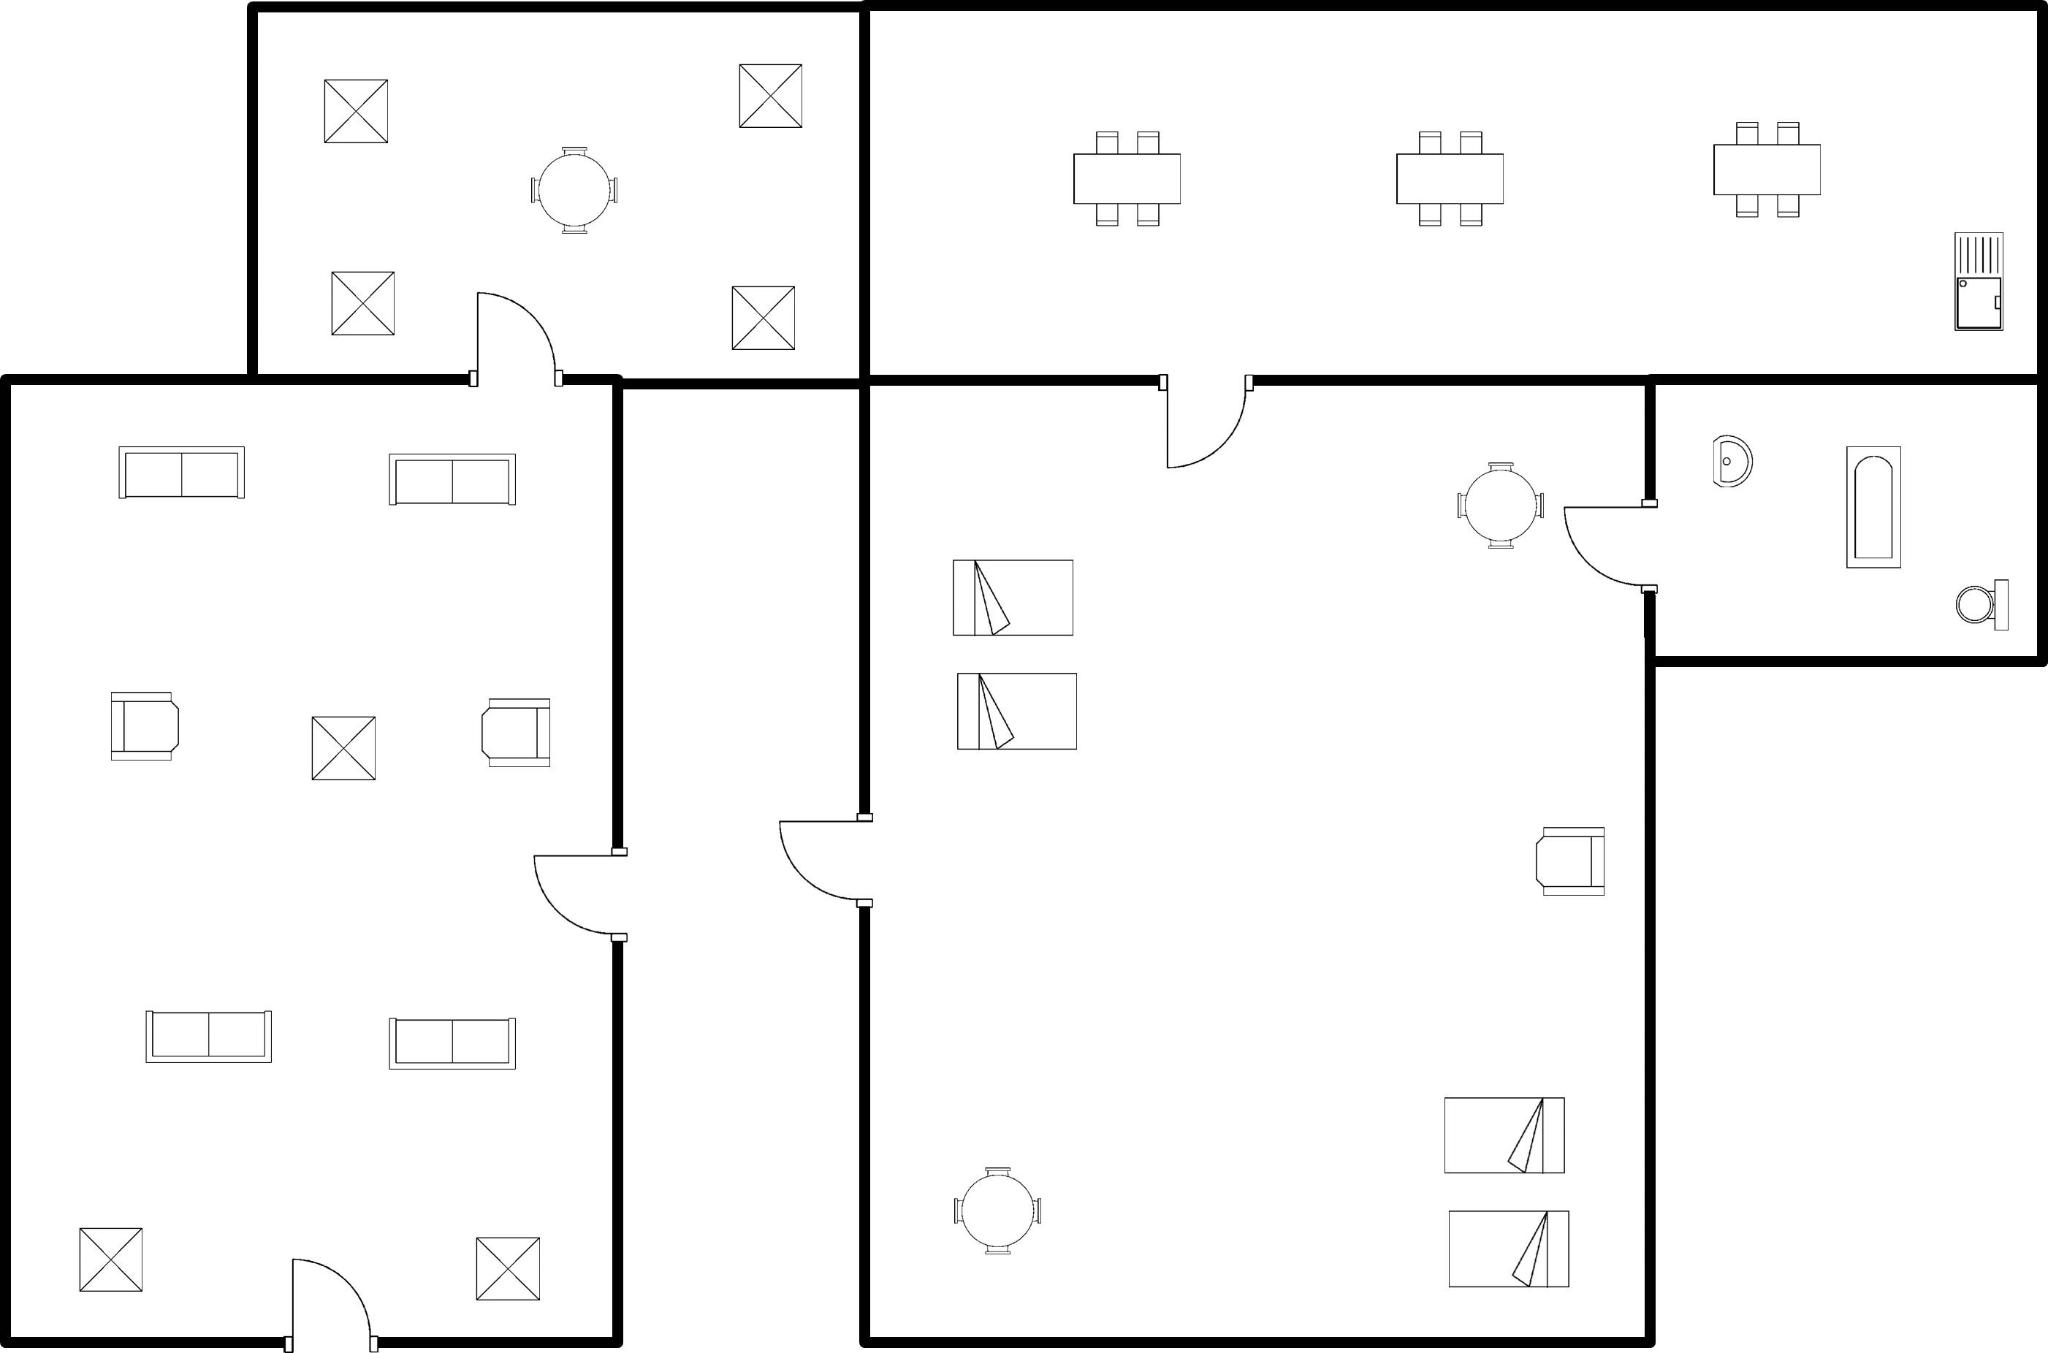bed: (1434, 1197, 1579, 1303), (939, 550, 1088, 646), (1432, 1087, 1576, 1182), (948, 664, 1090, 760)
dining_table: (1055, 119, 1192, 239), (1382, 119, 1514, 242), (1702, 112, 1834, 234)
round_table: (515, 136, 629, 246), (940, 1158, 1055, 1265), (1446, 450, 1554, 562)
sink: (1942, 223, 2016, 343)
sofa: (103, 435, 258, 515), (374, 439, 531, 516), (377, 1004, 528, 1081), (134, 1003, 290, 1077)
toilet: (1944, 559, 2021, 643)
tub: (1834, 433, 1912, 578)
